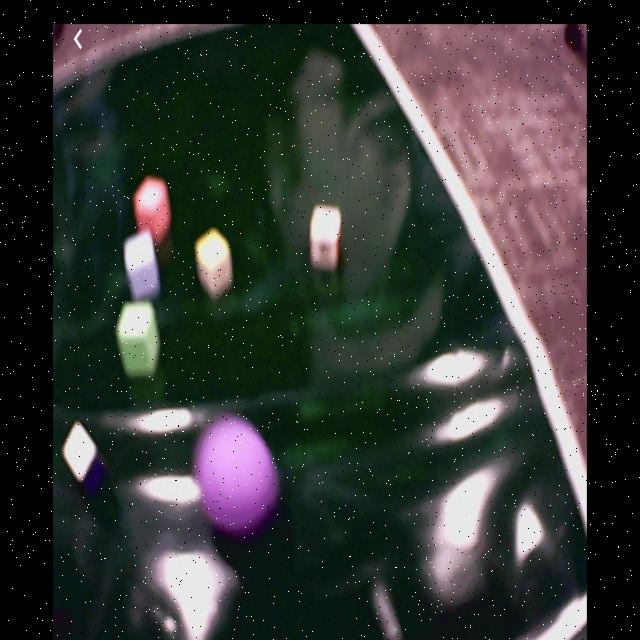ball: (198, 416, 278, 532)
